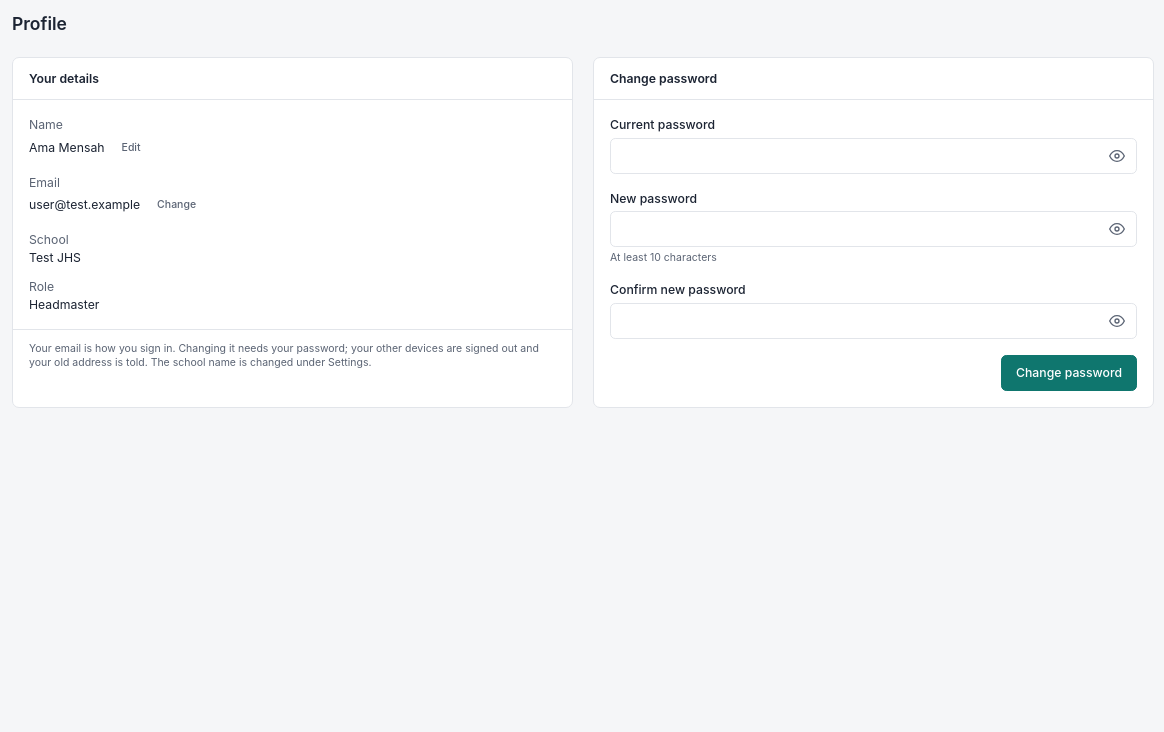
changing your own email › asks for the password and shows the new address afterwards
This screenshot has width=1164, height=732.
Click the button "Change".
click(177, 205)  # box [148, 191, 205, 219]
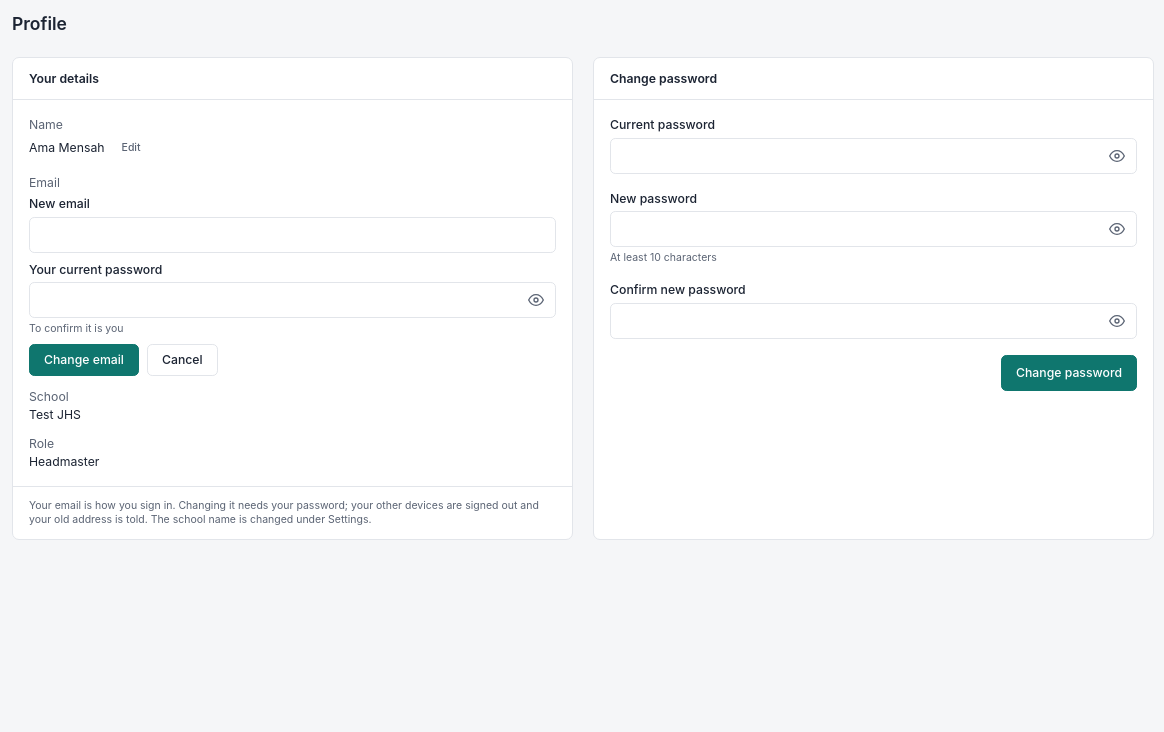
Type "head@ipel.example" into the field labelled "New email".
click(292, 234); type("head@ipel.example")  # box [29, 216, 556, 252]
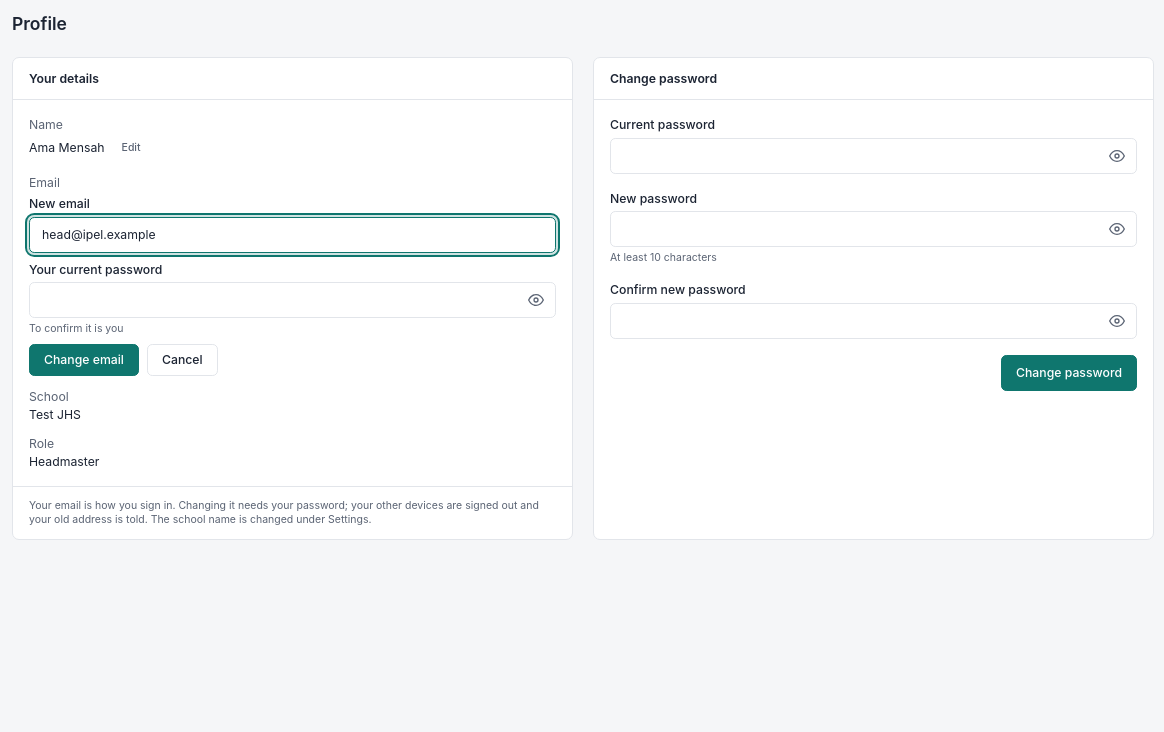
Type "Correct-Horse-Battery-9" into the password field labelled "Your current password".
click(292, 300); type("Correct-Horse-Battery-9")  # box [29, 282, 556, 318]
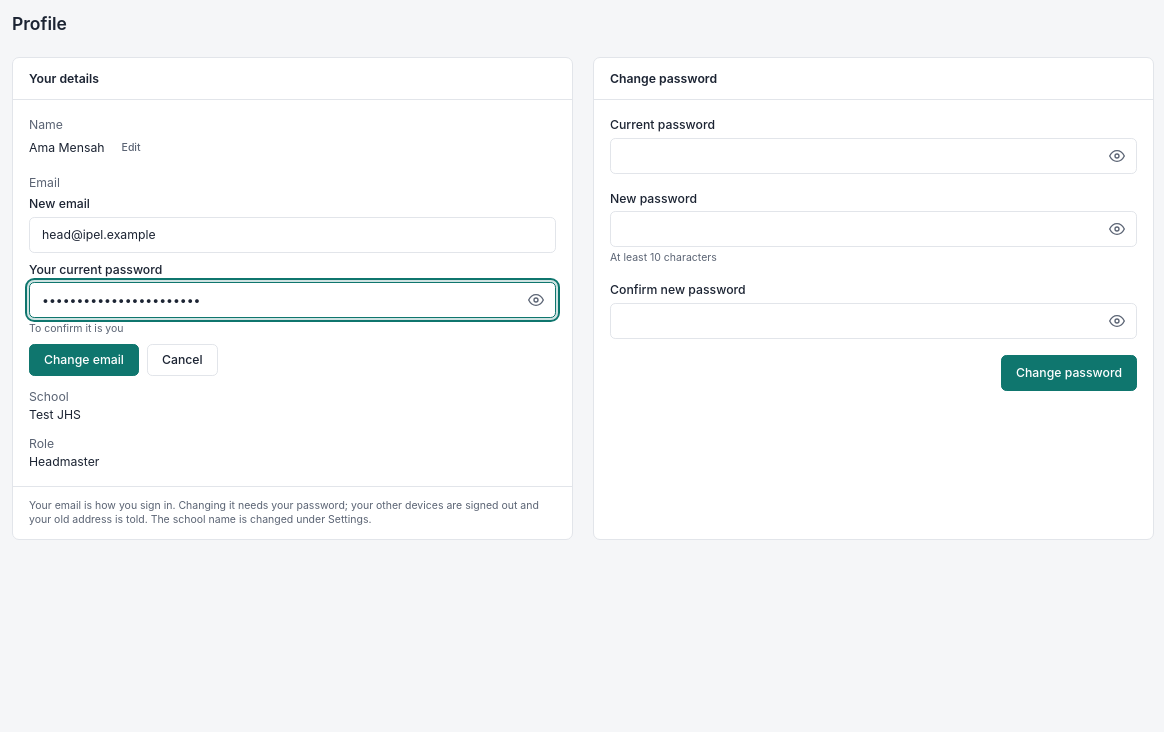
Click the button "Change email".
click(84, 360)  # box [29, 344, 139, 376]
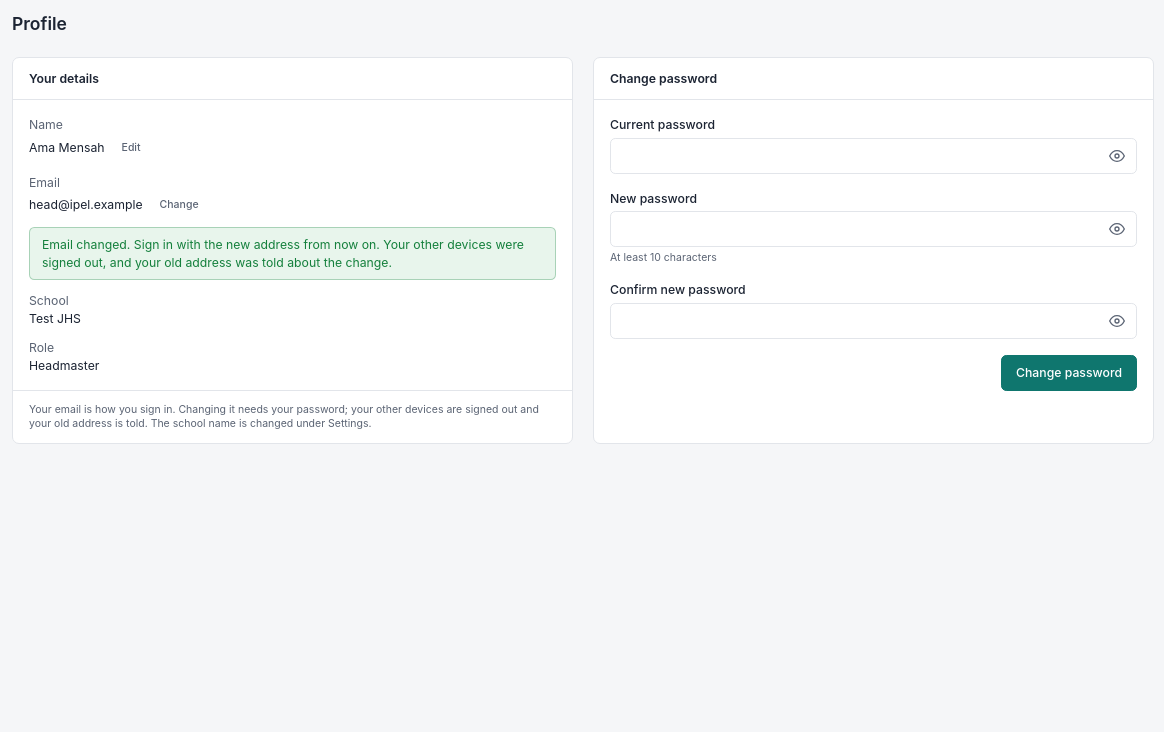
Check: the text "Email changed" is shown, box [42, 237, 524, 270]
Check: the text "head@ipel.example" is shown, box [29, 197, 143, 212]
